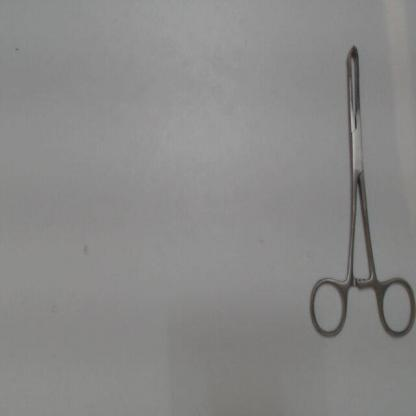Allis Tissue Forceps: (305, 34, 414, 343)
